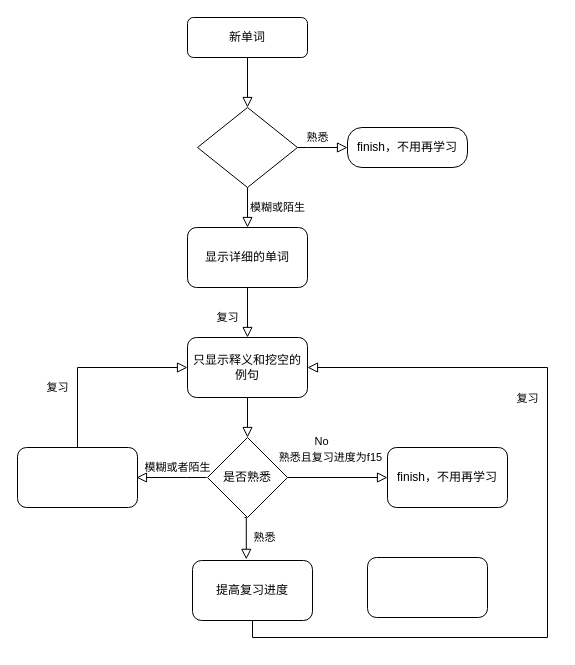
The diagram is 575 pixels wide and 665 high, and some of its shapes have lost their labels. Each missing label, with the centre of its shape:
判断熟悉程度: the point at 247,147
复习进度为：f1, f2, f4, f7, f15，数字为复习的天数: the point at 427,587
降低复习进度: the point at 77,477
